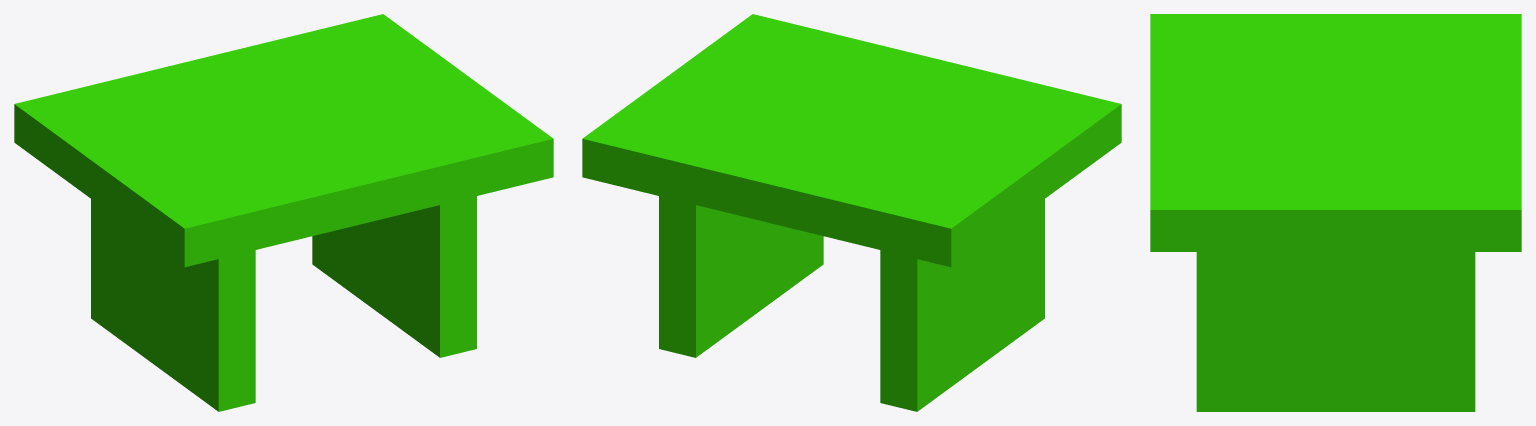
File: table.fbx
3 renders of one model, left to right at view 1: azimuth 30°, elevation 25°; view 2: azimuth 150°, elevation 25°; view 3: azimuth 270°, elevation 25°, orthographic. The views are drawn at different scales.
Visible parts, largest first — view 1: table; view 2: table; view 3: table.
Boxes of the visible parts, box(x1,y1,x2,y2) form: table: box(14, 14, 553, 411); table: box(582, 14, 1121, 411); table: box(1150, 14, 1521, 411).
Size of the model in its own units: 200 by 110 by 160.
